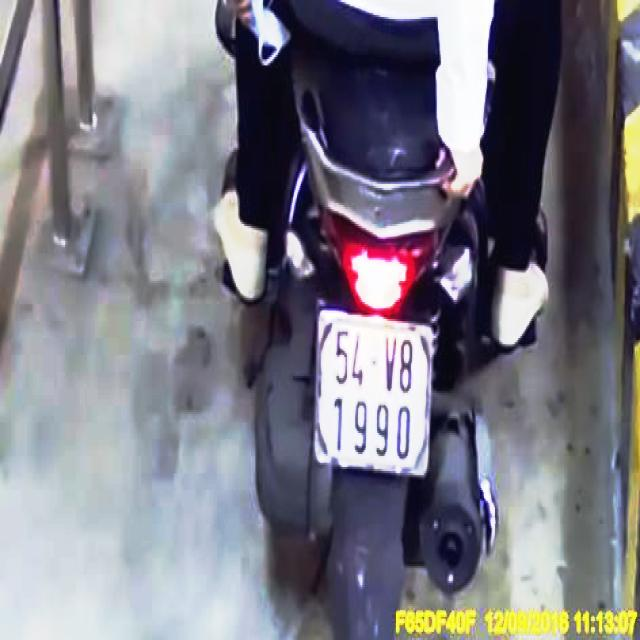license_plate: (317, 314, 435, 474)
